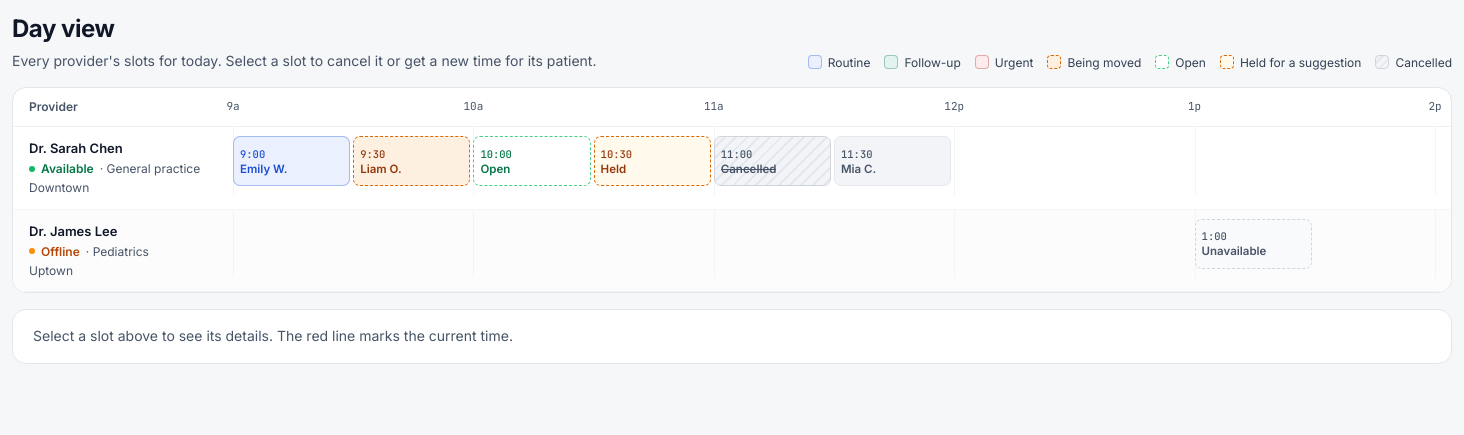
Scenario: DayView › disables Cancel slot while busy
Click the button with aria-label "10:00 AM" at (532, 161), box [473,136,591,186]
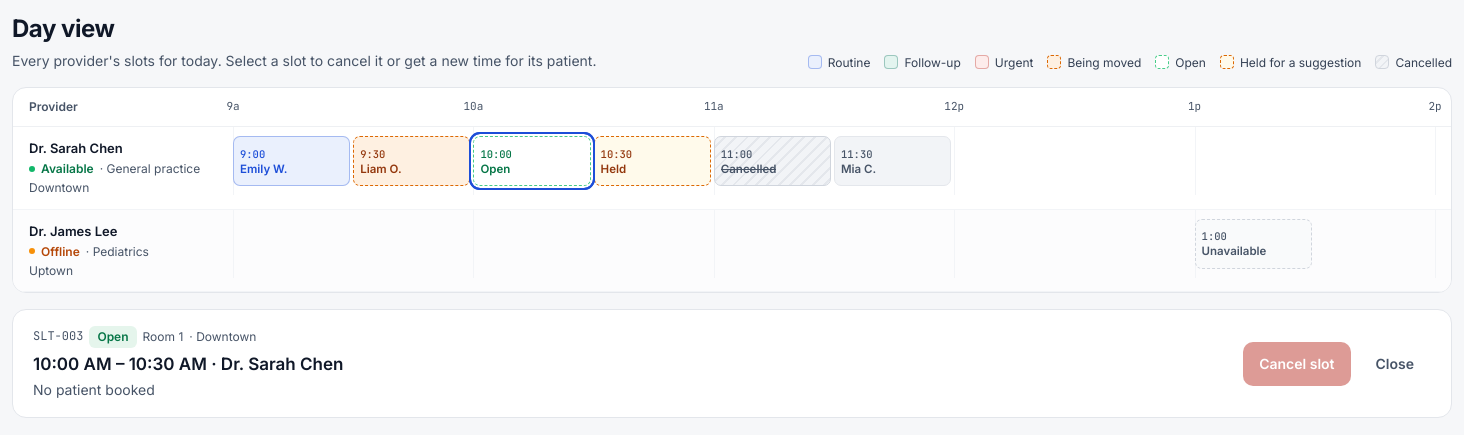
Now the button "Cancel slot" is disabled, box [1243,342,1350,386]
